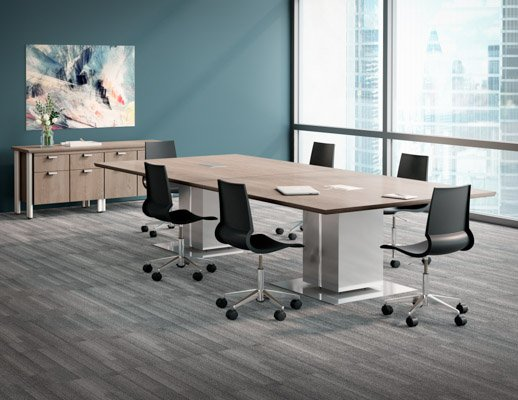conference_table: (94, 153, 496, 306)
